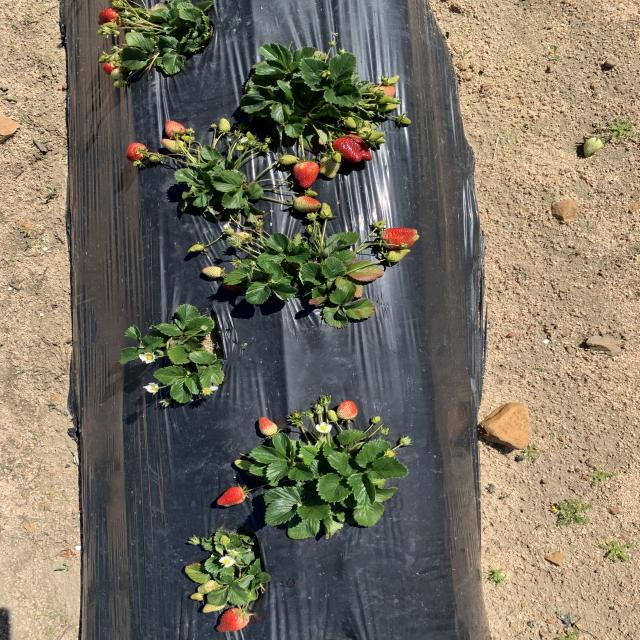unripe: (330, 132, 374, 164), (378, 226, 424, 250), (213, 606, 249, 634), (294, 158, 322, 186), (218, 486, 249, 507), (125, 141, 149, 161), (99, 8, 120, 25), (103, 58, 121, 74)
